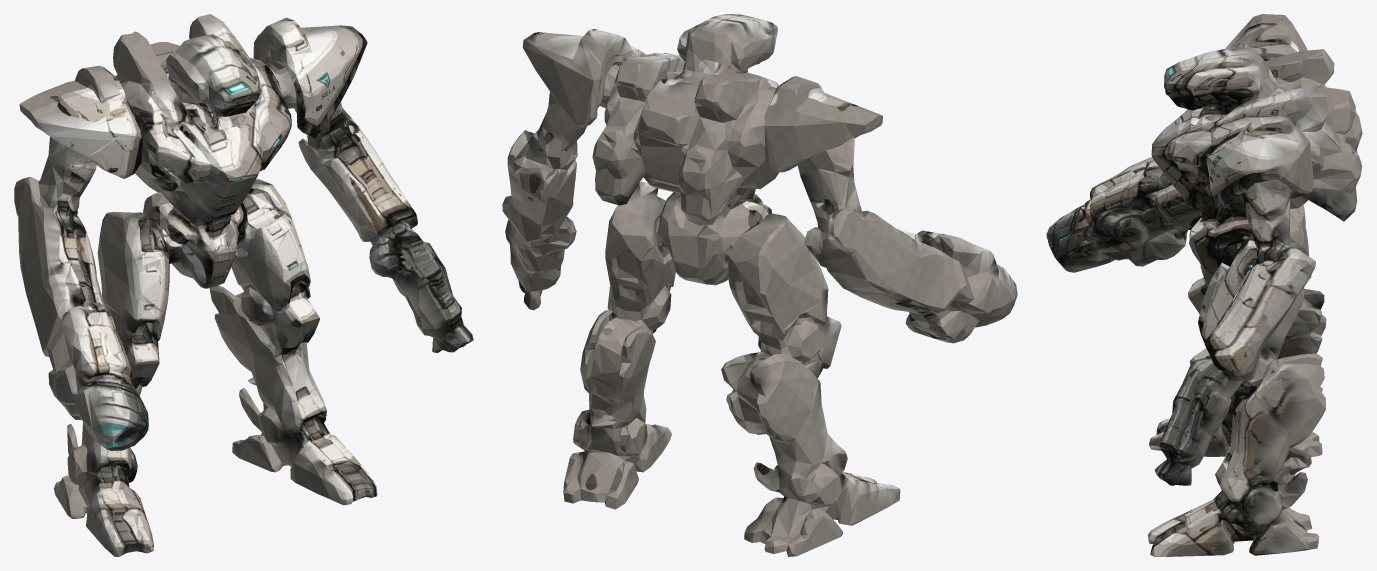
File: commander_lod1.glb
3 views of the same model, side by side, from view 1: azimuth 30°, elevation 25°; view 2: azimuth 150°, elevation 25°; view 3: azimuth 270°, elevation 25° (orthographic). The views are drawn at different scales.
Visible parts, largest first — view 1: SelaCommander; view 2: SelaCommander; view 3: SelaCommander.
Boxes of the visible parts, x1,y1,x2,y2 form: SelaCommander: (14,14,473,556); SelaCommander: (502,14,1017,556); SelaCommander: (1046,14,1362,556).
Bounding box in the file's own units: 1.98 × 1.99 × 1.29.
1 material, 1 textured.
